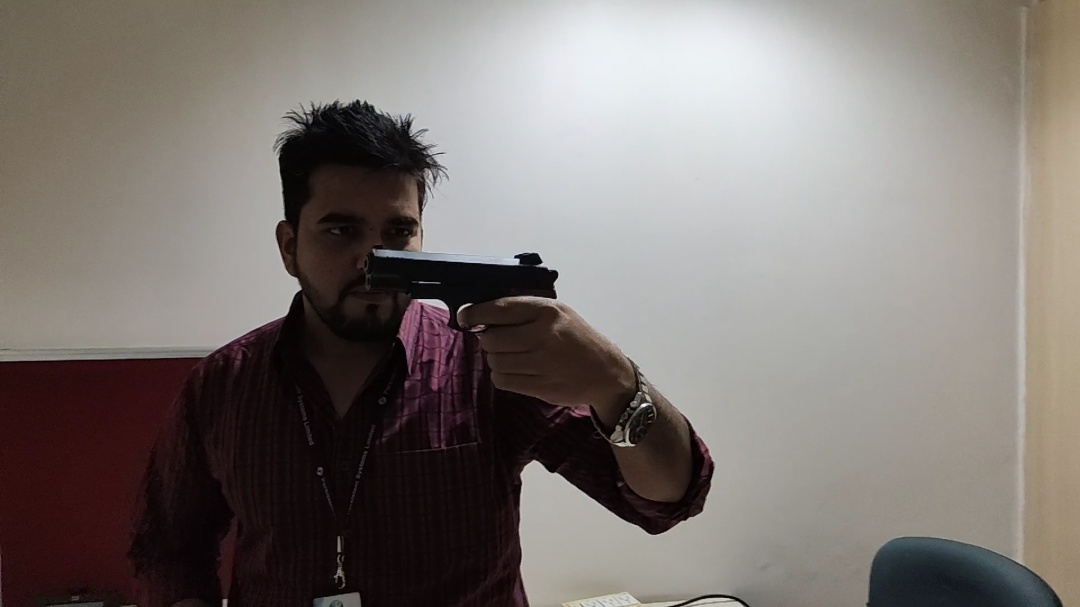gun: (366, 246, 568, 400)
